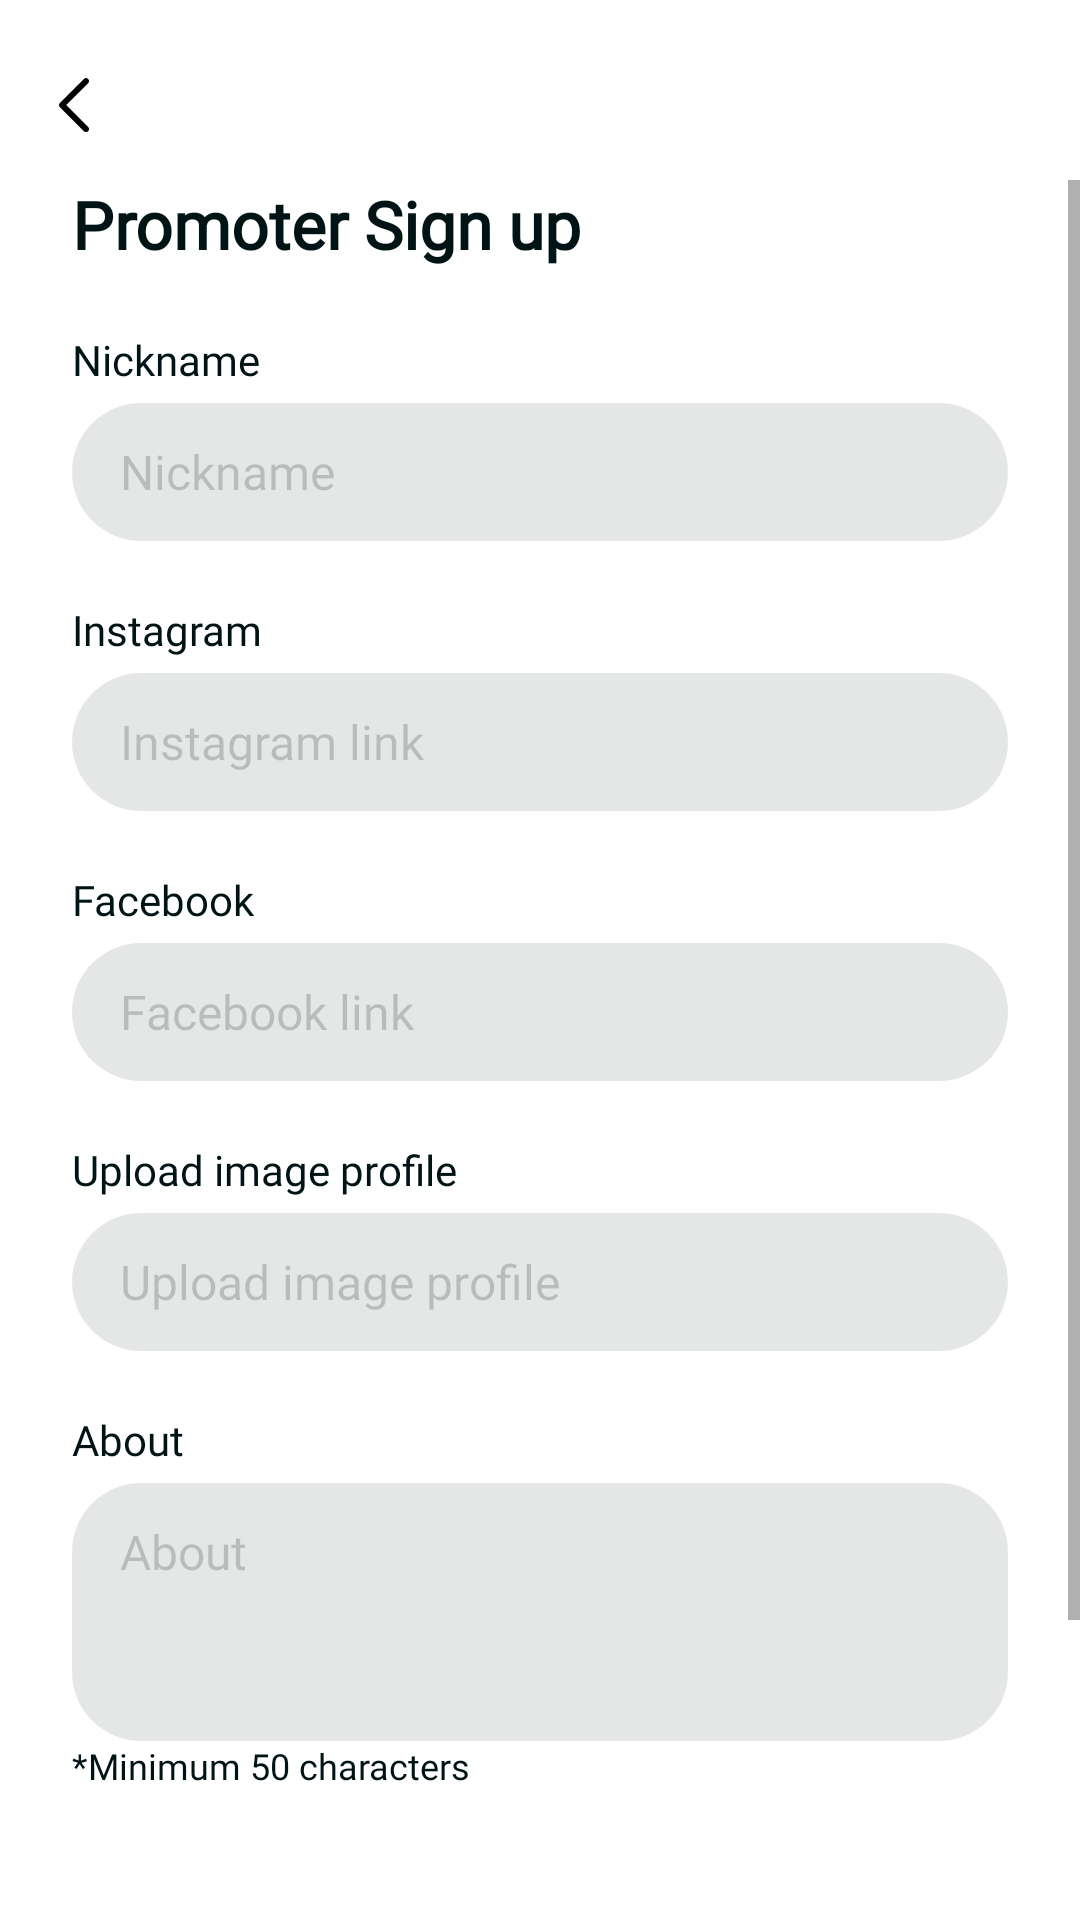

Where icons sit on this 1080 x 1920 app screen, as (x1, y1, x2, y2):
back arrow: (59, 78, 89, 132)
